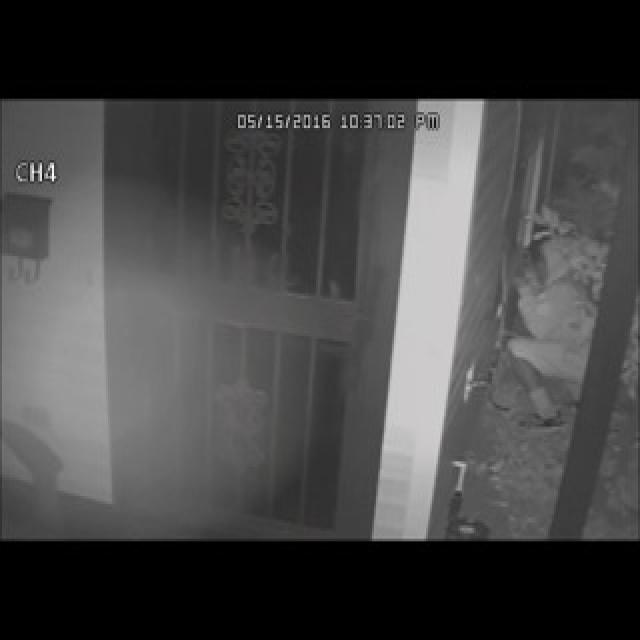thief: (520, 218, 610, 390)
